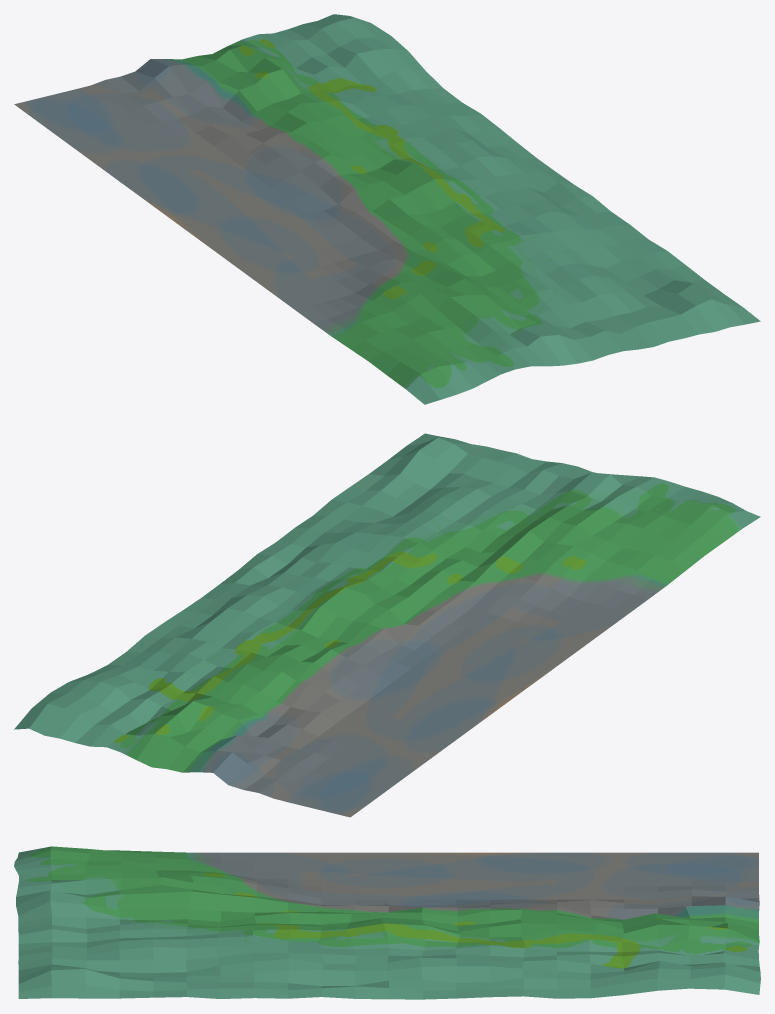
The model's file is terrain 1.glb.
3 views of the same model, one above another, from view 1: azimuth 30°, elevation 25°; view 2: azimuth 150°, elevation 25°; view 3: azimuth 270°, elevation 25° (orthographic). The views are drawn at different scales.
Parts seen in each view (by area): view 1: Plane; view 2: Plane; view 3: Plane.
Part boxes in pixels (<box>): Plane: <box>14,14,760,404</box>; Plane: <box>14,433,760,817</box>; Plane: <box>14,846,760,999</box>.
Bounding box in the file's own units: 16.12 × 1.17 × 34.15.
Materials: 1 (1 with a texture image).
